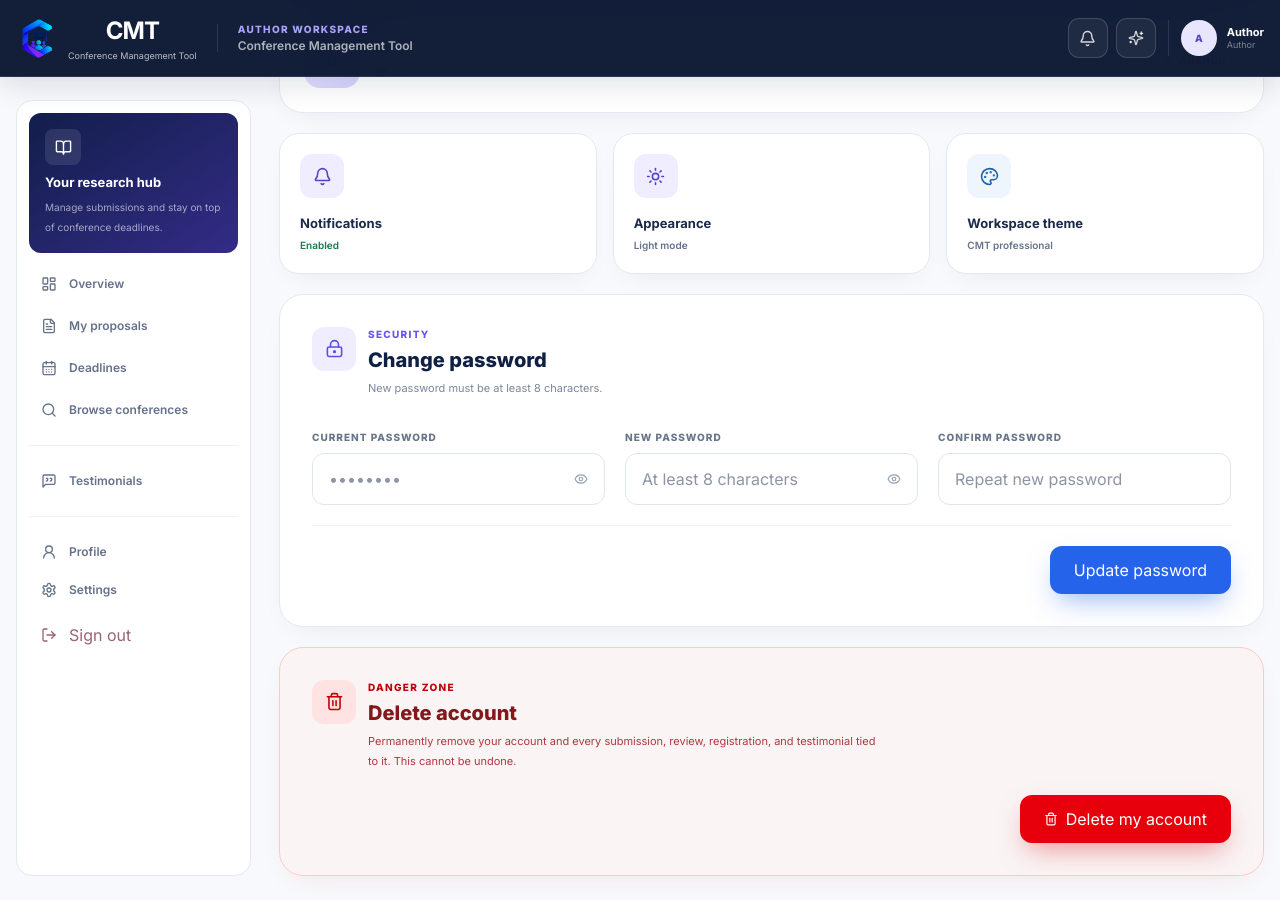
Scenario: review lifecycle and account settings › allows account deletion cancellation without entering a password
(page scrolled)
Step 1. Click the button "Delete my account" → (1125, 819), box [1020,795,1231,843]
(page scrolled)
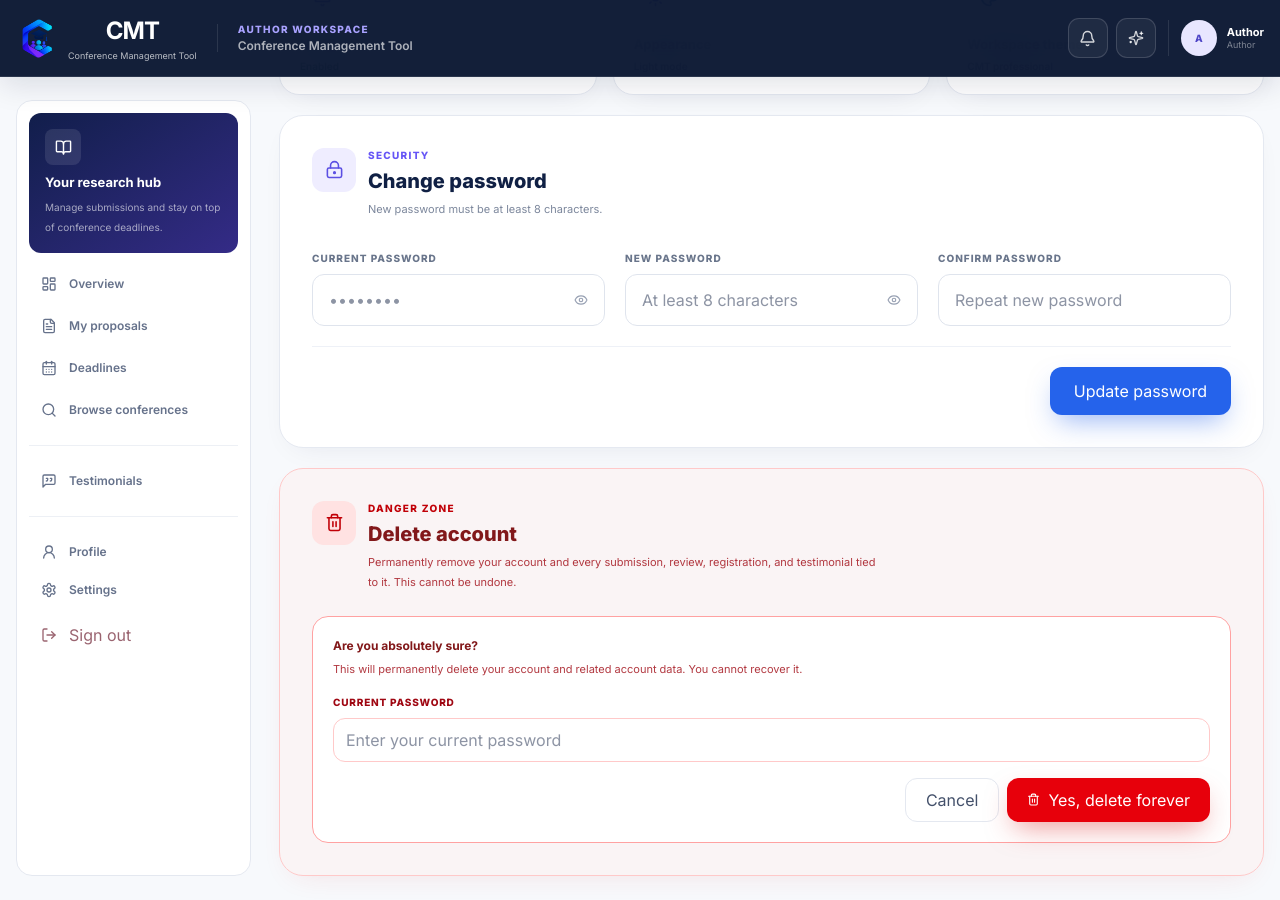
Check: the button "Cancel" is enabled
Step 2. Click the button "Cancel" → (952, 800), box [905,778,999,822]
(page scrolled)
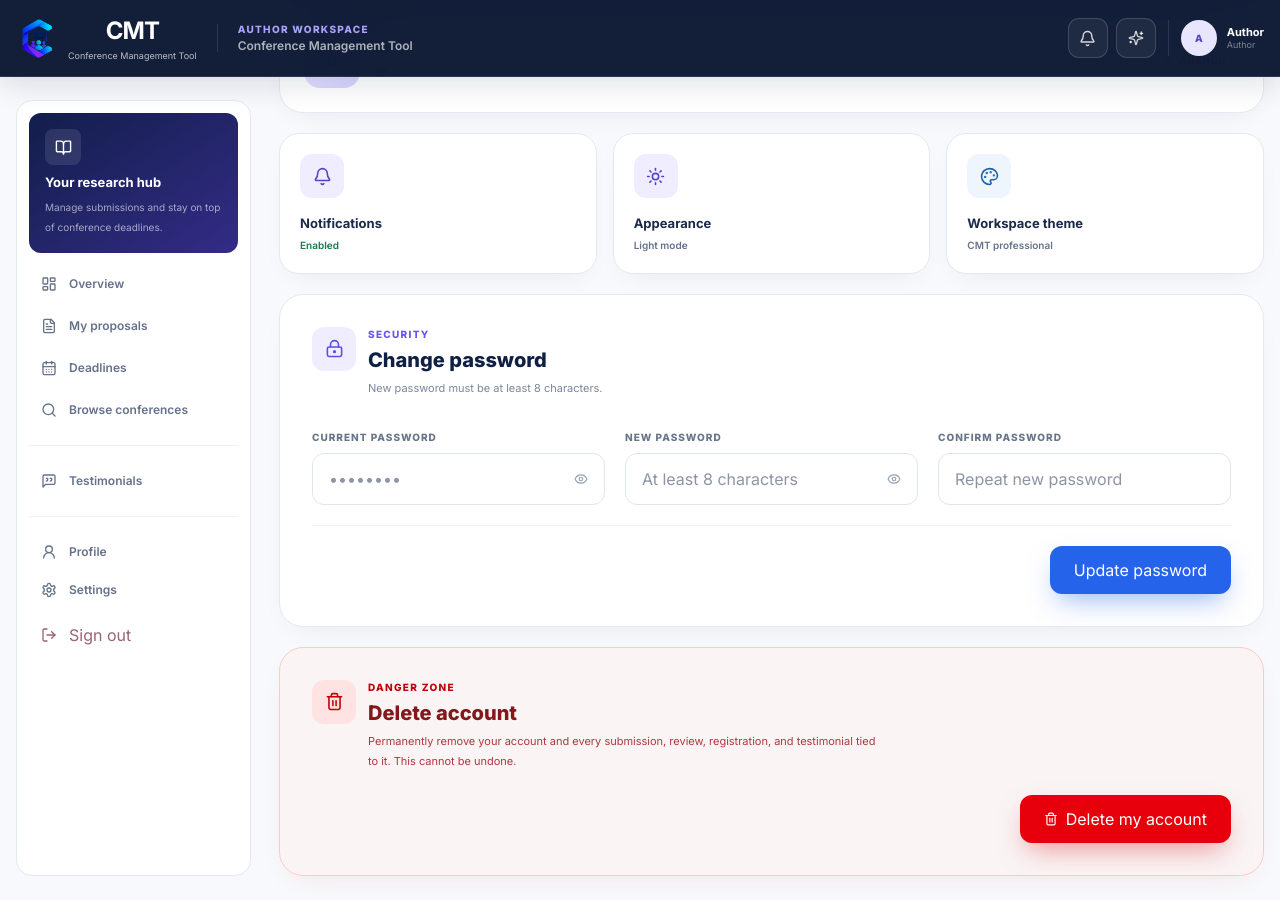
Check: the button "Cancel" is gone
